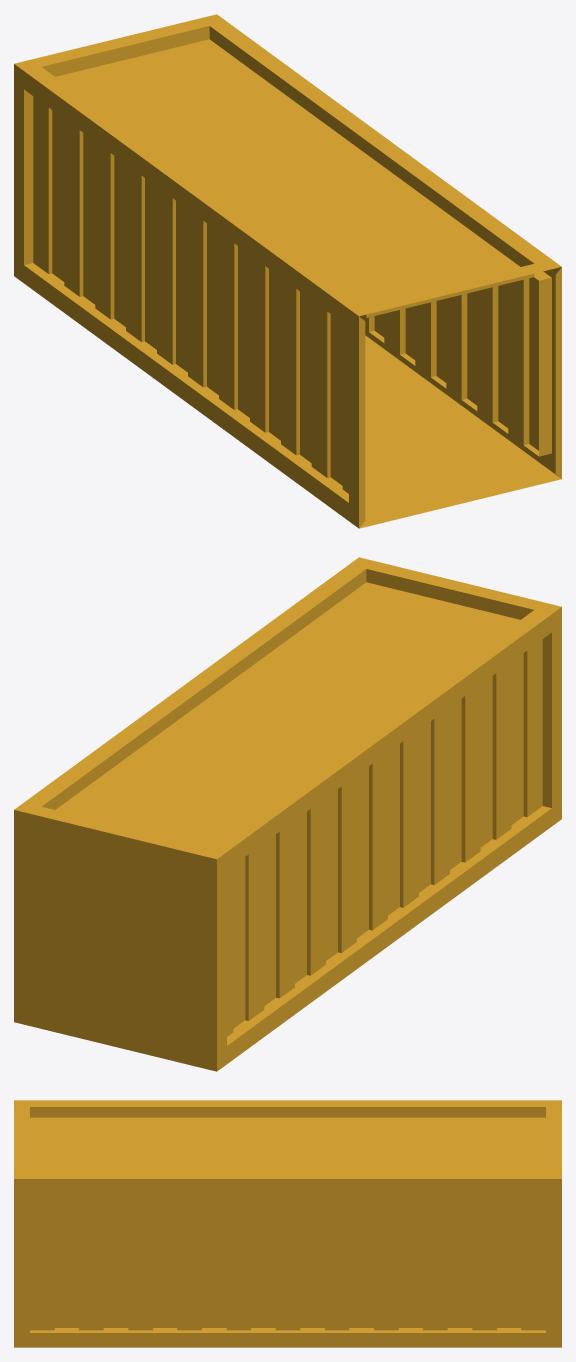
The model's file is IntelCargo.fbx.
3 views of the same model, one above another, from view 1: azimuth 30°, elevation 25°; view 2: azimuth 150°, elevation 25°; view 3: azimuth 270°, elevation 25° (orthographic). The views are drawn at different scales.
Parts seen in each view (by area): view 1: container open; view 2: container open; view 3: container open.
Part boxes in pixels (x1,y1,x2,y2): container open: (14, 14, 561, 528); container open: (14, 557, 561, 1071); container open: (14, 1100, 561, 1347).
Bounding box in the file's own units: 1104 × 1104 × 3253.
